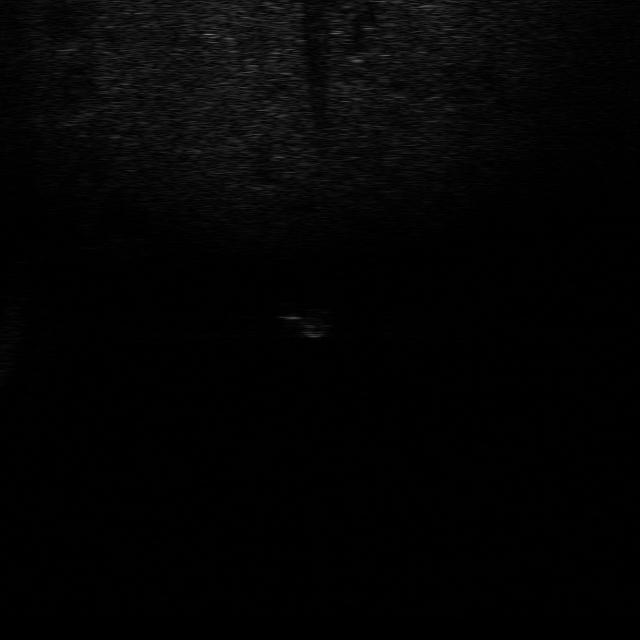human body: (276, 304, 338, 343)
